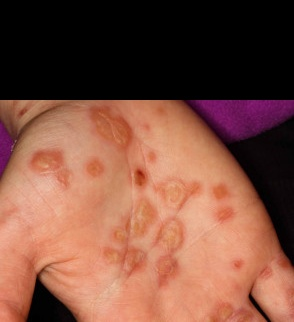SJS-TEN: (80, 133, 245, 303), (16, 99, 147, 209)
